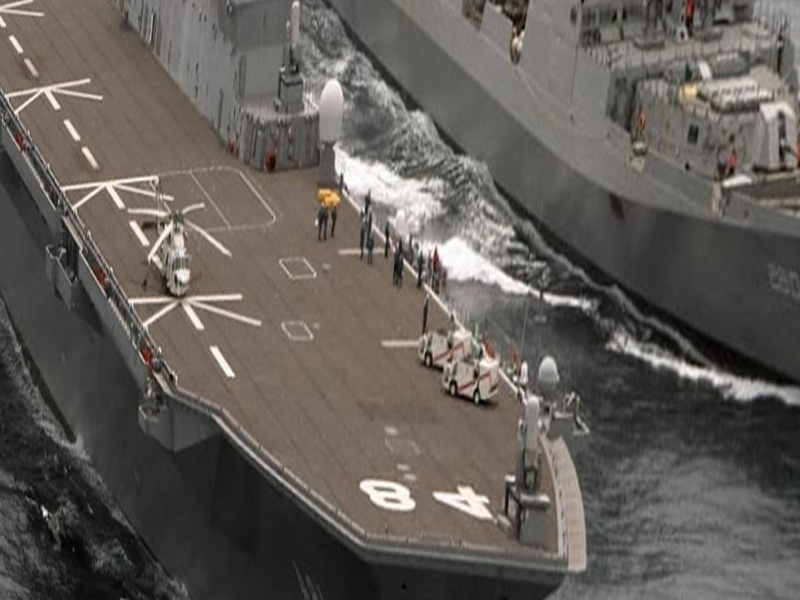carrier: (19, 7, 578, 581)
cruise: (386, 2, 800, 386)
